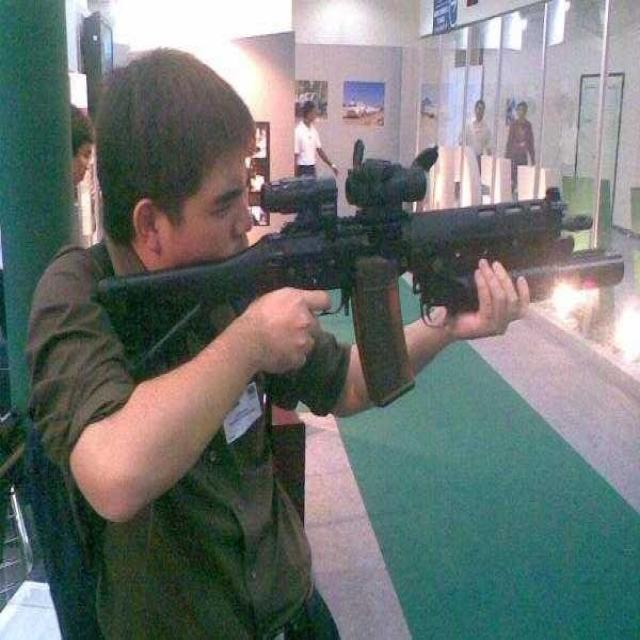RifleTel: (88, 131, 634, 400)
